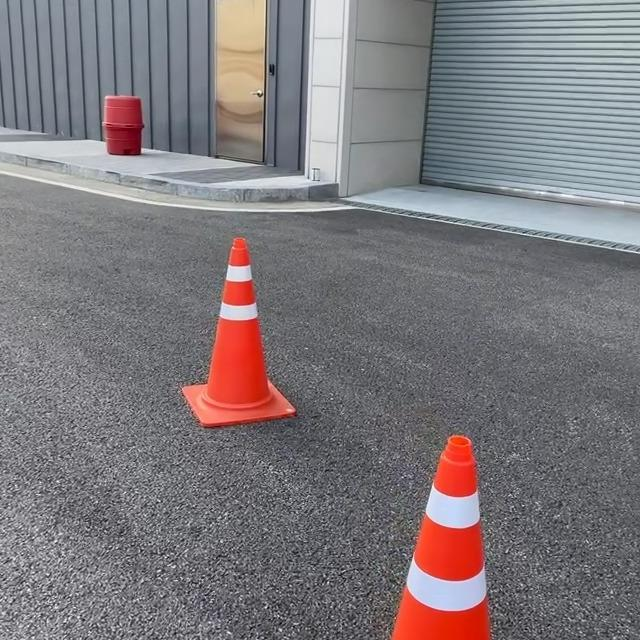fallen_object: (347, 339, 582, 640), (162, 223, 307, 413)
